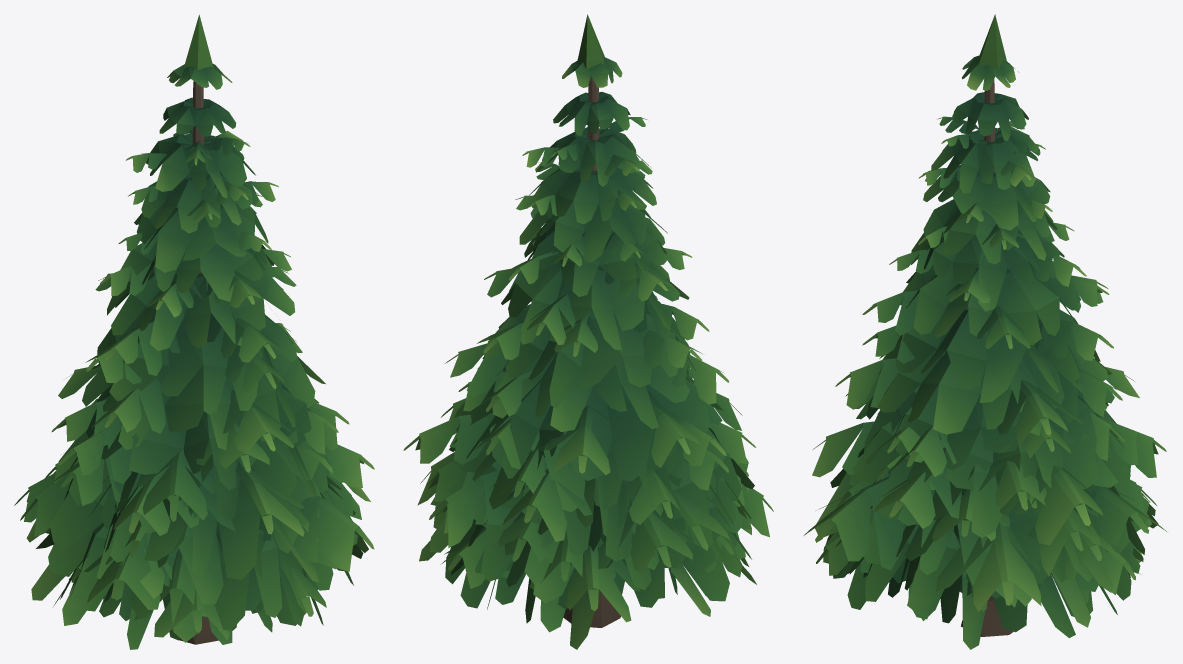
Rendered from spruce_L_normal_std_bottom_dense_s5.glb.
The picture shows the model from 3 angles, left to right: view 1: azimuth 30°, elevation 25°; view 2: azimuth 150°, elevation 25°; view 3: azimuth 270°, elevation 25°; orthographic projection. The views are drawn at different scales.
Parts seen in each view (by area): view 1: Tree; view 2: Tree; view 3: Tree.
Boxes of the visible parts, x1=… form: Tree: x1=14, y1=14, x2=374, y2=649; Tree: x1=403, y1=14, x2=773, y2=649; Tree: x1=803, y1=14, x2=1166, y2=649.
Size of what is drawn, in the model's own units: 4.31 by 7.91 by 4.3.
